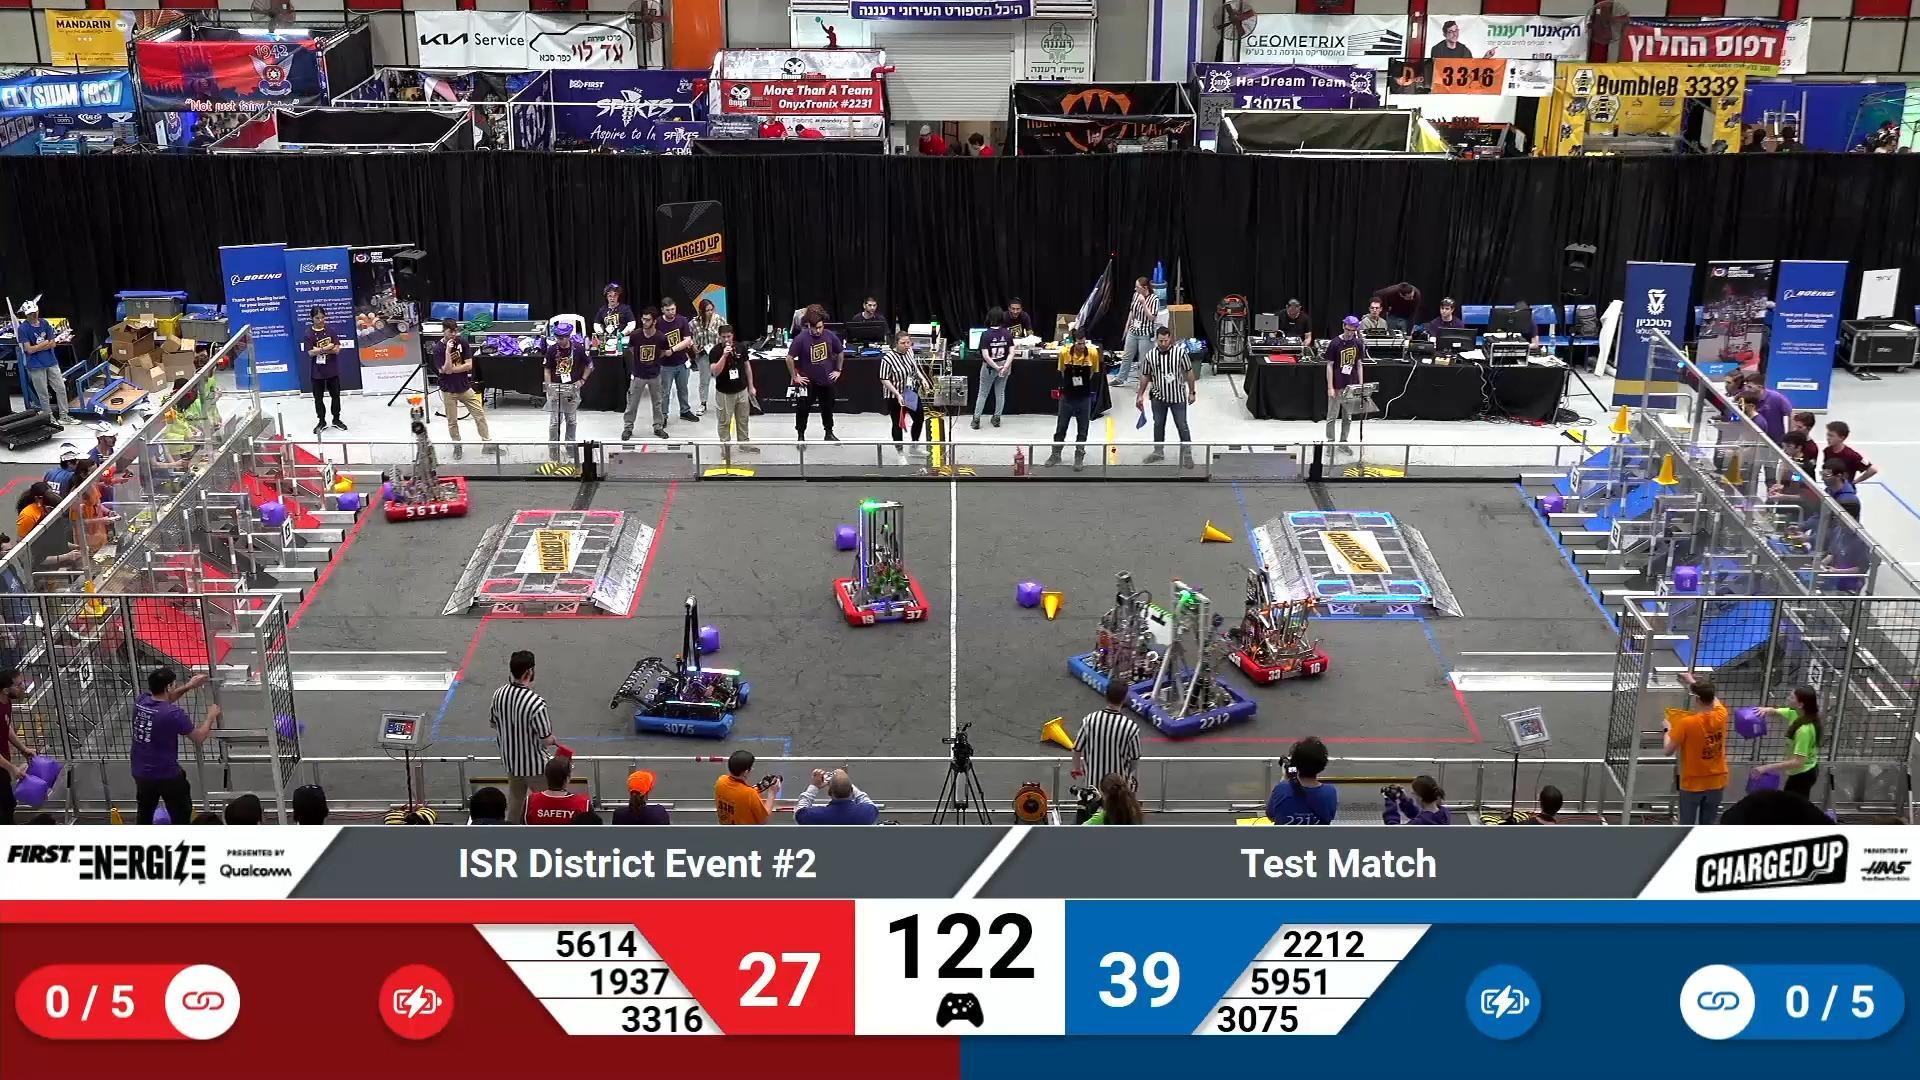robot: (604, 588, 750, 738), (1120, 584, 1259, 738), (1067, 570, 1179, 699), (1222, 560, 1328, 686), (829, 502, 928, 626), (378, 401, 469, 524)
